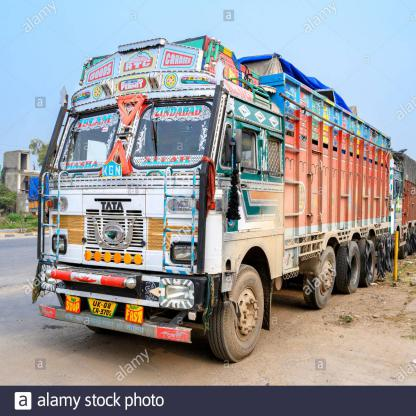truck: (36, 36, 392, 361)
